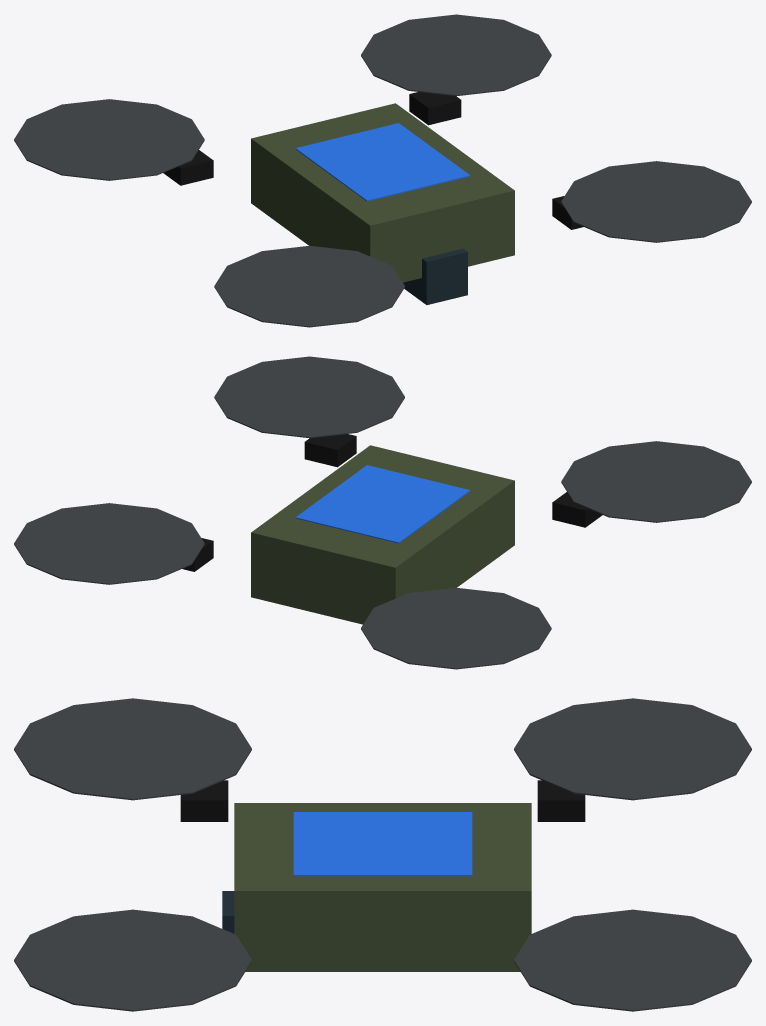
Rendered from kp_transport_heli.glb.
3 renders of one model, top to bottom at view 1: azimuth 30°, elevation 25°; view 2: azimuth 150°, elevation 25°; view 3: azimuth 270°, elevation 25°, orthographic. The views are drawn at different scales.
Visible parts, largest first — view 1: body, rotor_0, rotor_3, rotor_1, rotor_2, team_plate, camera_pod, arm_3, arm_2; view 2: body, rotor_1, rotor_2, rotor_0, rotor_3, team_plate, arm_1, arm_0; view 3: body, rotor_0, rotor_1, rotor_2, rotor_3, team_plate, arm_0, arm_2, camera_pod.
Part boxes in pixels (x1,y1,x2,y2): body: (251, 103, 514, 282); rotor_0: (214, 245, 404, 327); rotor_3: (361, 14, 551, 96); rotor_1: (561, 161, 751, 242); rotor_2: (14, 99, 204, 180); team_plate: (295, 123, 470, 201); camera_pod: (403, 248, 467, 304); arm_3: (409, 92, 461, 125); arm_2: (163, 150, 213, 185); body: (251, 445, 514, 624); rotor_1: (214, 356, 404, 438); rotor_2: (361, 587, 551, 669); rotor_0: (561, 441, 751, 522); rotor_3: (14, 503, 204, 584); team_plate: (295, 465, 470, 543); arm_1: (304, 434, 356, 467); arm_0: (552, 492, 602, 527); body: (234, 803, 531, 971); rotor_0: (14, 698, 251, 800); rotor_1: (14, 909, 251, 1011); rotor_2: (514, 698, 751, 800); rotor_3: (514, 909, 751, 1011); team_plate: (293, 812, 472, 876); arm_0: (180, 780, 228, 821); arm_2: (537, 780, 585, 821); camera_pod: (222, 891, 234, 933).
Bounding box in the file's own units: 9.3 × 1.59 × 9.3.
